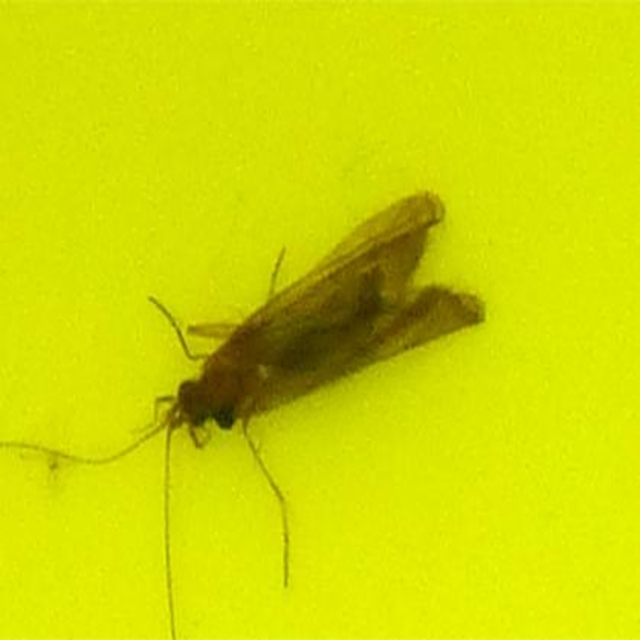Plecoptera: (153, 190, 487, 450)
